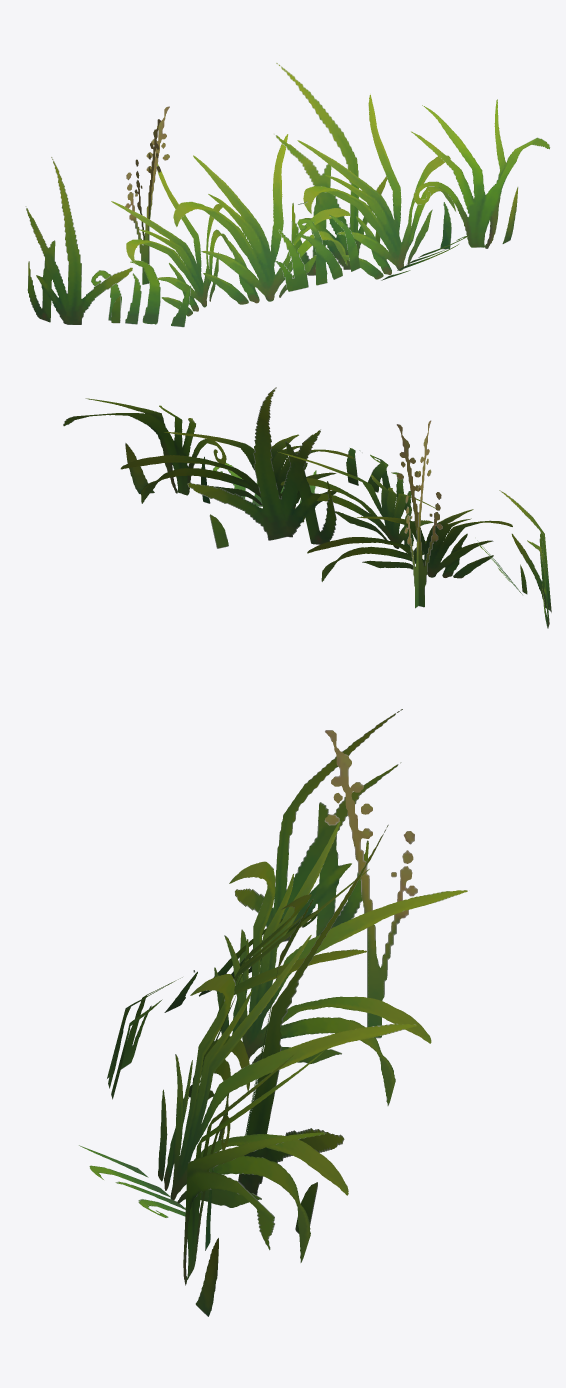
Rendered from loyalismwood_grass01.FBX.
3 renders of one model, top to bottom at view 1: azimuth 30°, elevation 25°; view 2: azimuth 150°, elevation 25°; view 3: azimuth 270°, elevation 25°, orthographic. The views are drawn at different scales.
Visible parts, largest first — view 1: loyalismwood_grass01; view 2: loyalismwood_grass01; view 3: loyalismwood_grass01.
Boxes of the visible parts, x1=… form: loyalismwood_grass01: x1=25, y1=62, x2=550, y2=327; loyalismwood_grass01: x1=63, y1=387, x2=551, y2=628; loyalismwood_grass01: x1=79, y1=709, x2=467, y2=1316.
Size of the model in its own units: 356 by 181 by 157.
